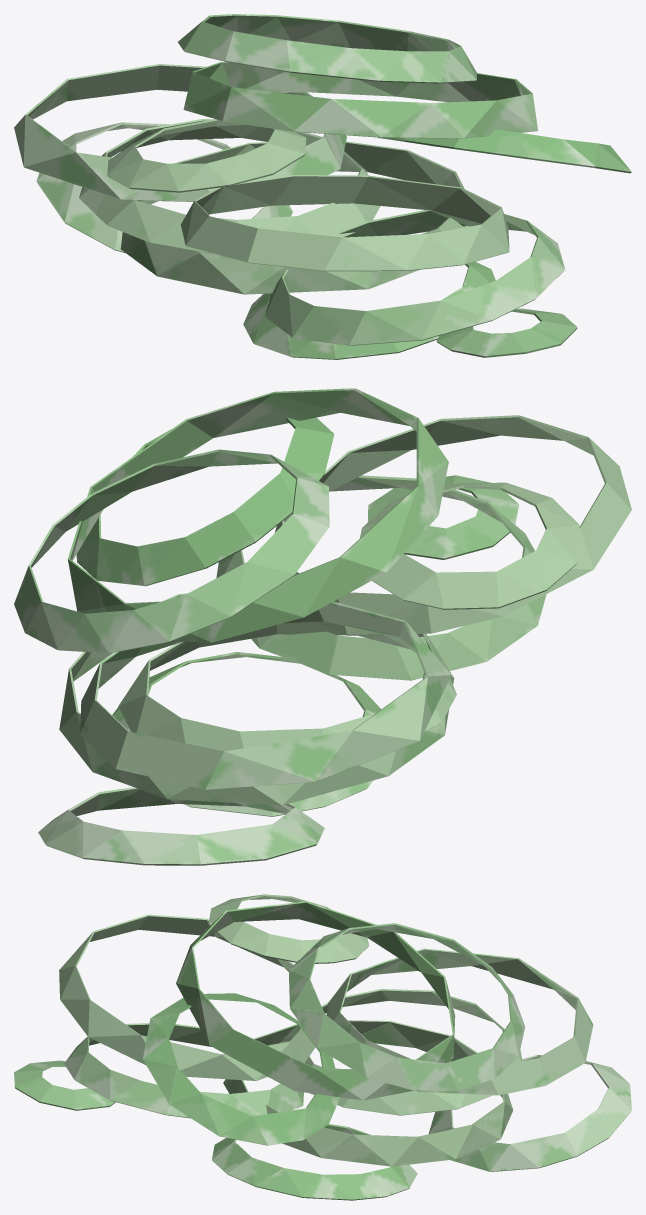
The model's file is onions.fbx.
3 renders of one model, top to bottom at view 1: azimuth 30°, elevation 25°; view 2: azimuth 150°, elevation 25°; view 3: azimuth 270°, elevation 25°, orthographic. The views are drawn at different scales.
Visible parts, largest first — view 1: Sphere.203; view 2: Sphere.203; view 3: Sphere.203.
Boxes of the visible parts, x1,y1,x2,y2 form: Sphere.203: [14, 14, 631, 359]; Sphere.203: [14, 388, 631, 865]; Sphere.203: [14, 894, 631, 1200].
Size of the model in its own units: 12.97 by 7.78 by 18.69.
